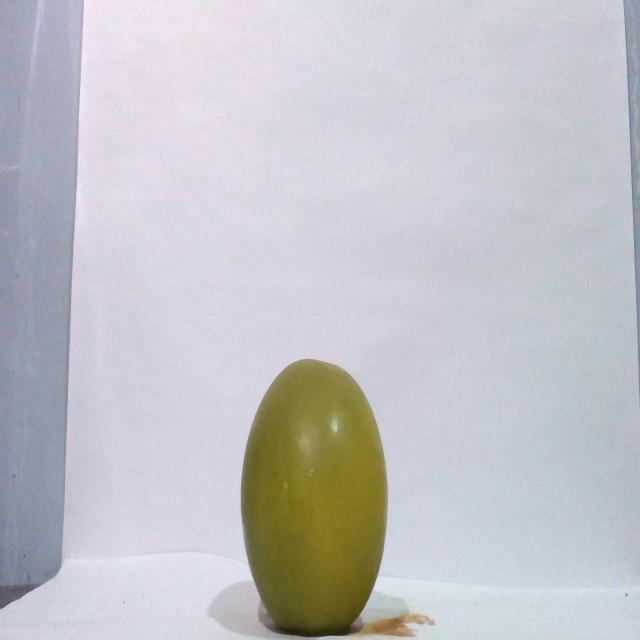Green: (238, 357, 389, 634)
